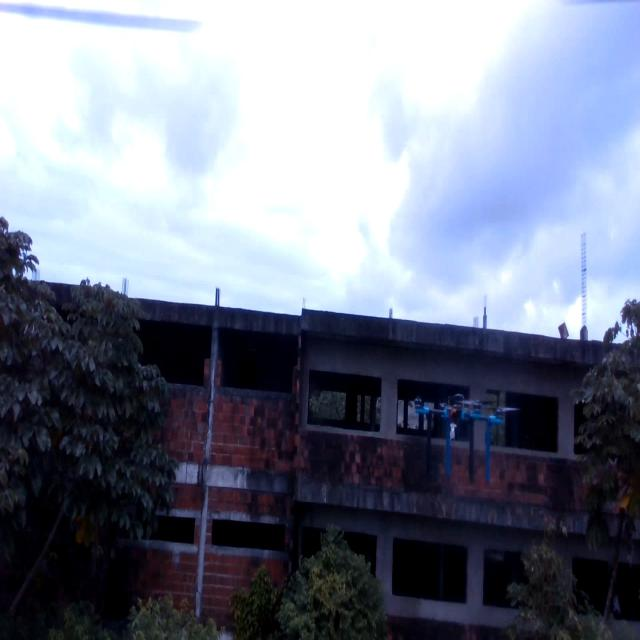-uav-: (398, 364, 532, 495)
